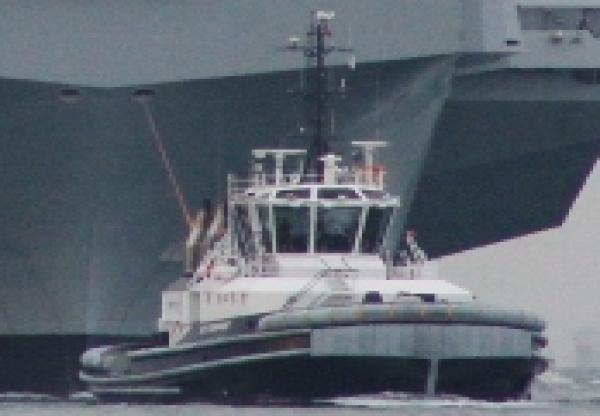Tug: (0, 2, 600, 416)
